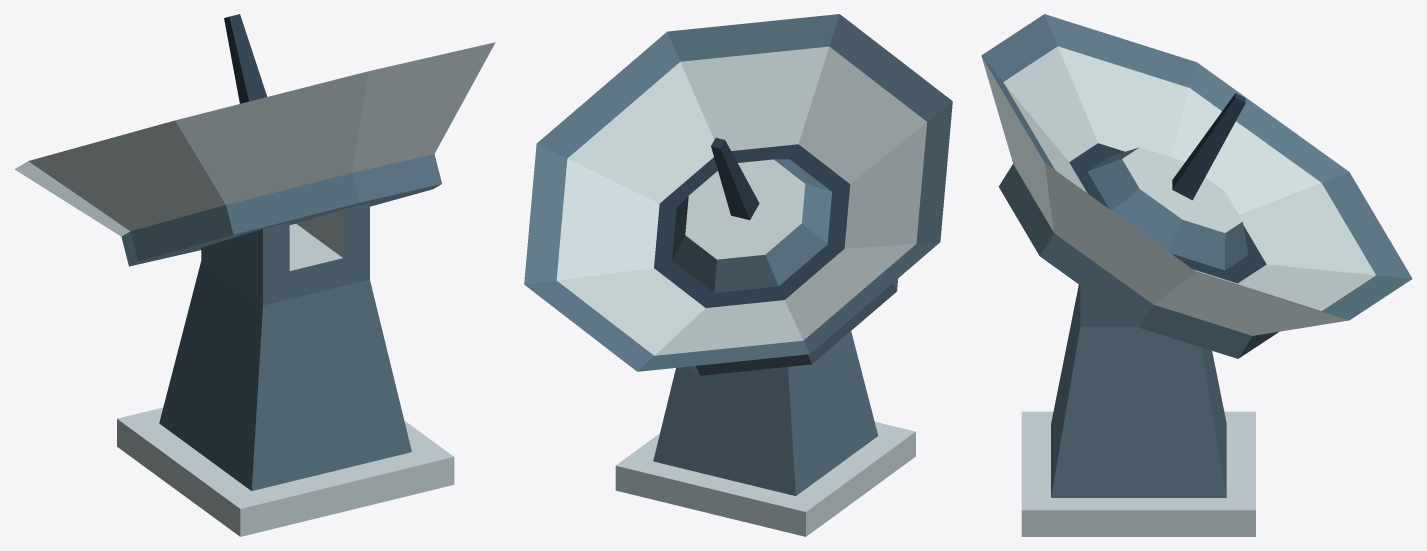
File: satelliteDish_large.glb
The picture shows the model from 3 angles, left to right: view 1: azimuth 30°, elevation 25°; view 2: azimuth 150°, elevation 25°; view 3: azimuth 270°, elevation 25°; orthographic projection. The views are drawn at different scales.
Parts seen in each view (by area): view 1: satelliteDish_large; view 2: satelliteDish_large; view 3: satelliteDish_large.
Part boxes in pixels (box(x1,y1,x2,y2)): satelliteDish_large: box(14, 14, 495, 536); satelliteDish_large: box(524, 14, 952, 536); satelliteDish_large: box(981, 14, 1412, 536).
Bounding box in the file's own units: 0.8487 × 0.8142 × 0.7369.
